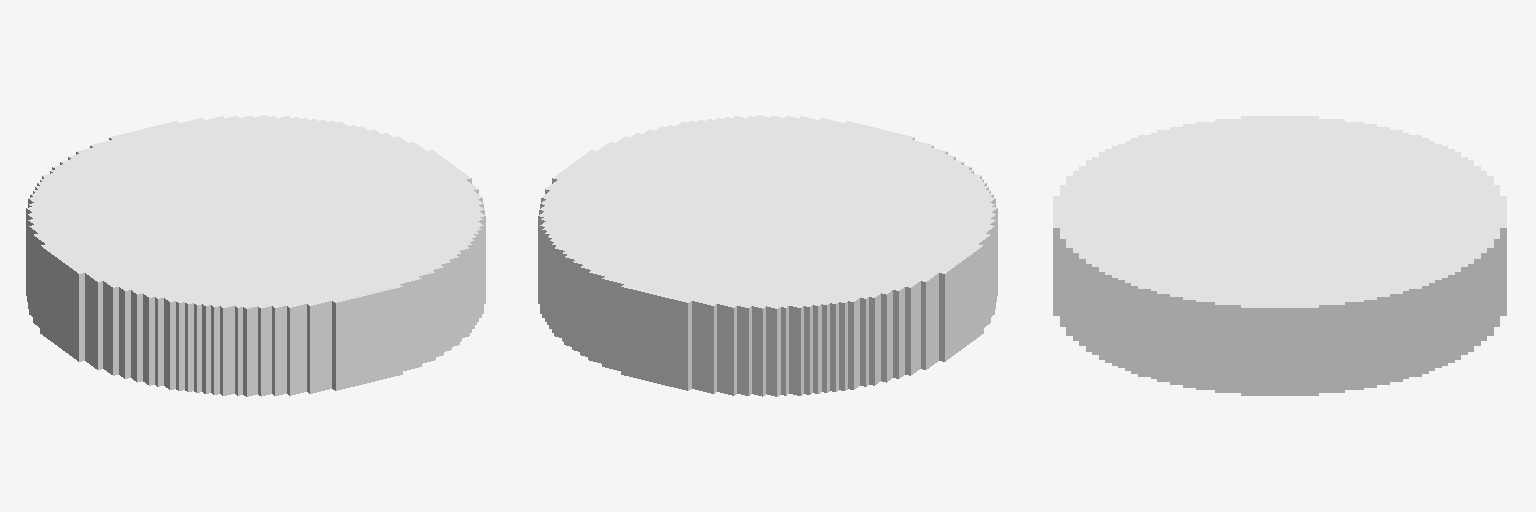
Rendered from base_with_flag_elements-1.obj.
3 renders of one model, left to right at view 1: azimuth 30°, elevation 25°; view 2: azimuth 150°, elevation 25°; view 3: azimuth 270°, elevation 25°, orthographic.
Parts seen in each view (by area): view 1: object 1; view 2: object 1; view 3: object 1.
Boxes of the visible parts, <box> form: object 1: <box>26,115,485,396</box>; object 1: <box>538,115,997,396</box>; object 1: <box>1053,116,1506,395</box>.
Bounding box in the file's own units: 7 × 1.5 × 7.